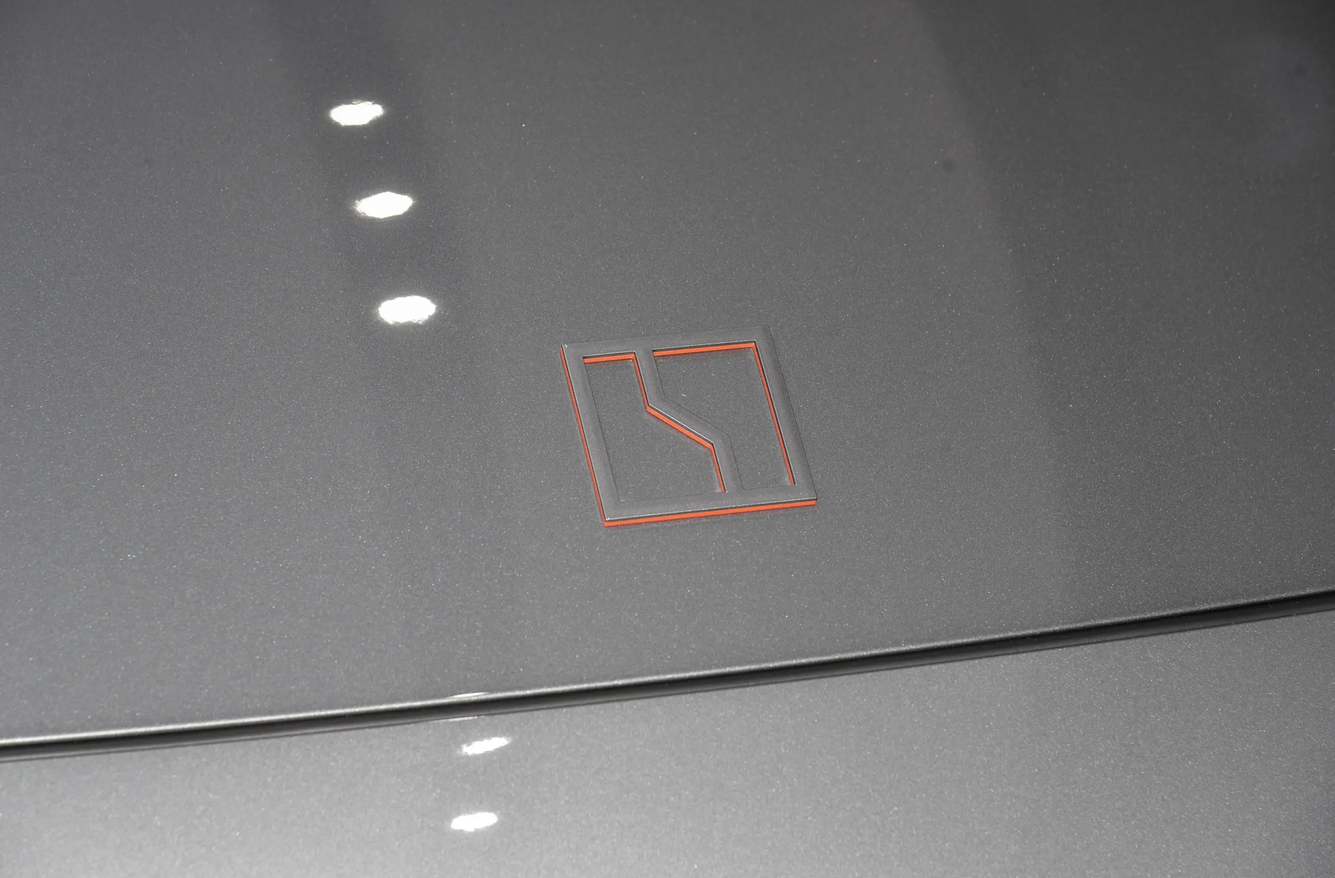ZEEKR: (561, 328, 816, 526)
